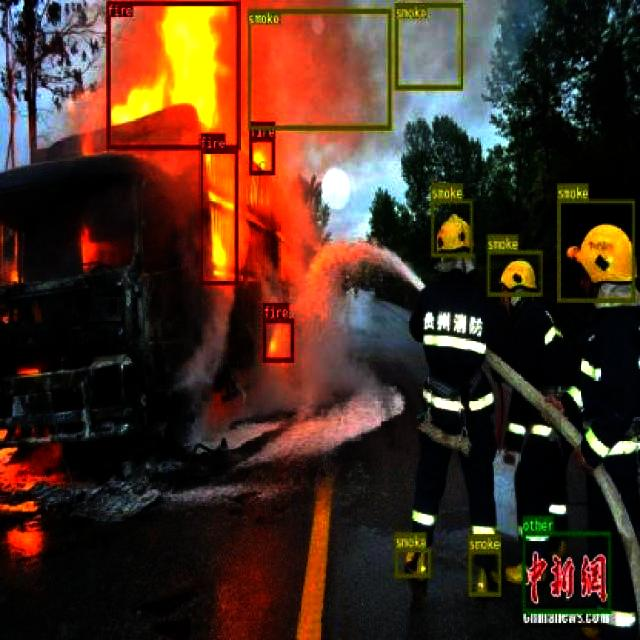fire: (106, 0, 239, 148), (198, 149, 237, 283), (262, 318, 293, 362), (248, 136, 274, 175)
smoke: (247, 8, 390, 128), (556, 198, 635, 302), (394, 2, 462, 88), (486, 250, 542, 296), (430, 198, 472, 257), (468, 550, 500, 596), (394, 547, 430, 578)
